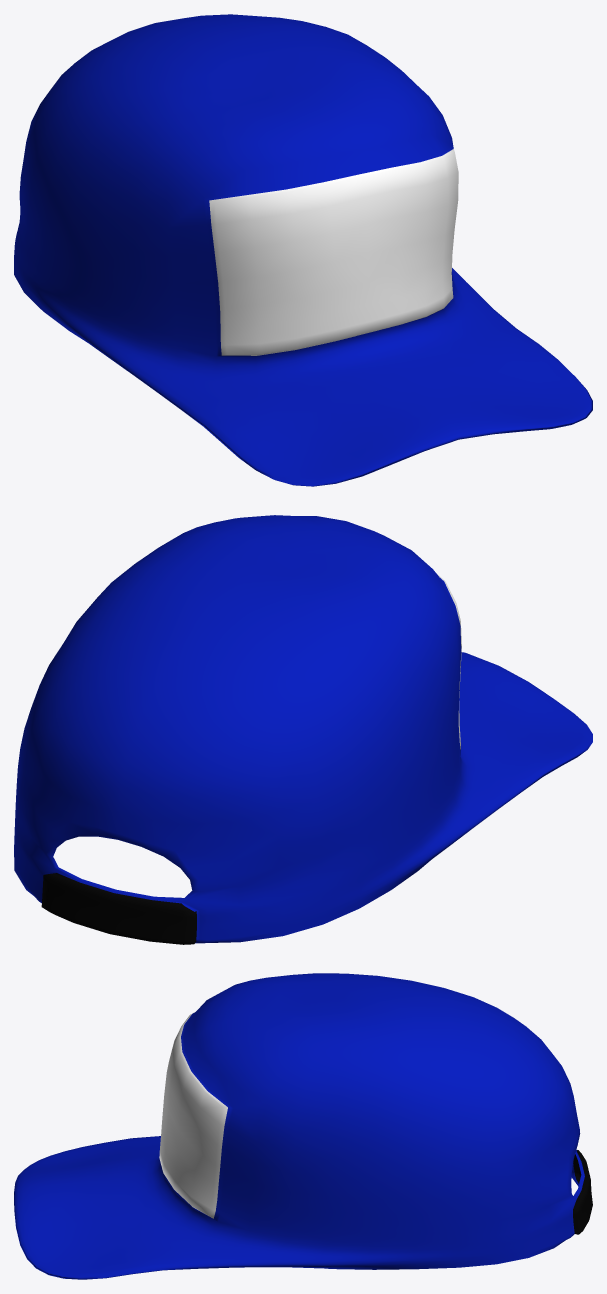
The picture shows the model from 3 angles, top to bottom: view 1: azimuth 30°, elevation 25°; view 2: azimuth 150°, elevation 25°; view 3: azimuth 270°, elevation 25°; orthographic projection. The views are drawn at different scales.
Parts seen in each view (by area): view 1: trucker_hat_cap_0, trucker_hat_badge_0; view 2: trucker_hat_cap_0, trucker_hat_strap_0; view 3: trucker_hat_cap_0, trucker_hat_badge_0, trucker_hat_strap_0.
Boxes of the visible parts, x1,y1,x2,y2 form: trucker_hat_cap_0: (14,14,592,486); trucker_hat_badge_0: (209,149,458,355); trucker_hat_cap_0: (14,515,592,943); trucker_hat_strap_0: (41,873,196,944); trucker_hat_cap_0: (14,973,584,1279); trucker_hat_badge_0: (159,1012,227,1218); trucker_hat_strap_0: (573,1150,592,1234).
Size of the model in its own units: 0.1566 by 0.1131 by 0.2721.
